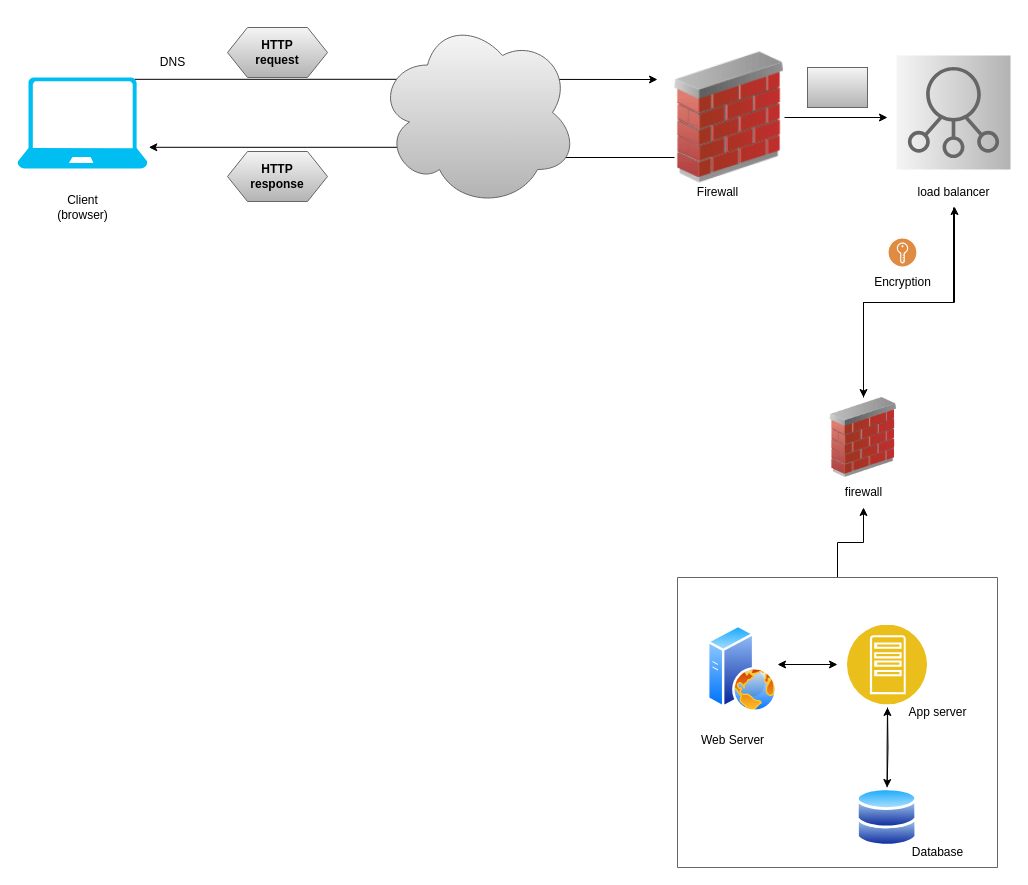
Image size: 1028x885. Some labels were removed from this diagram. The shapes that lost their labels are listed below. From the top down, each one's centre as x and y in pixels, then its label:
At (x=837, y=87): "SSL HTTPS".
At (x=477, y=112): "Internet".
